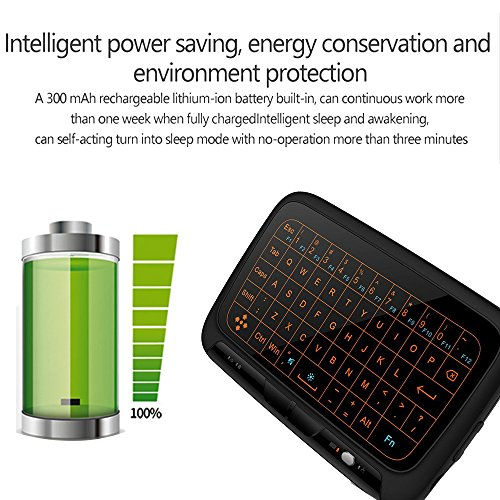Teclado: (200, 187, 500, 495)
